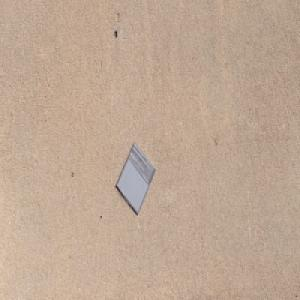PlasticPart: (115, 141, 156, 216)
